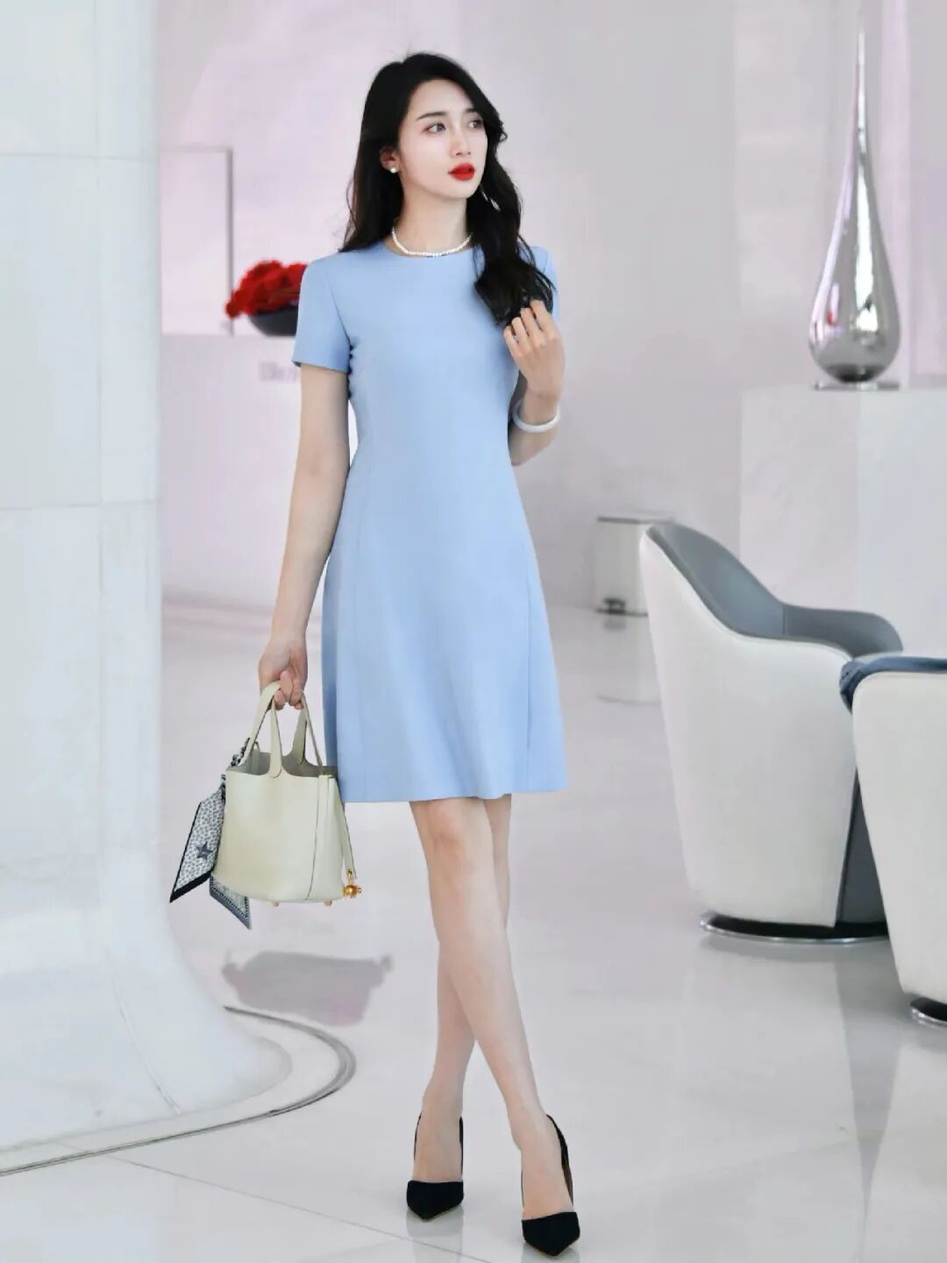up: (247, 39, 620, 1252)
